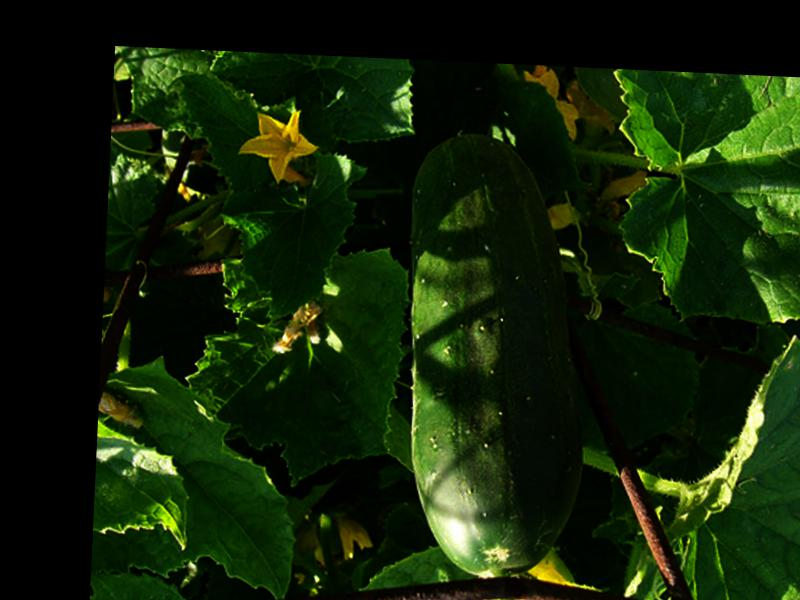Cucumber: (394, 129, 601, 580)
